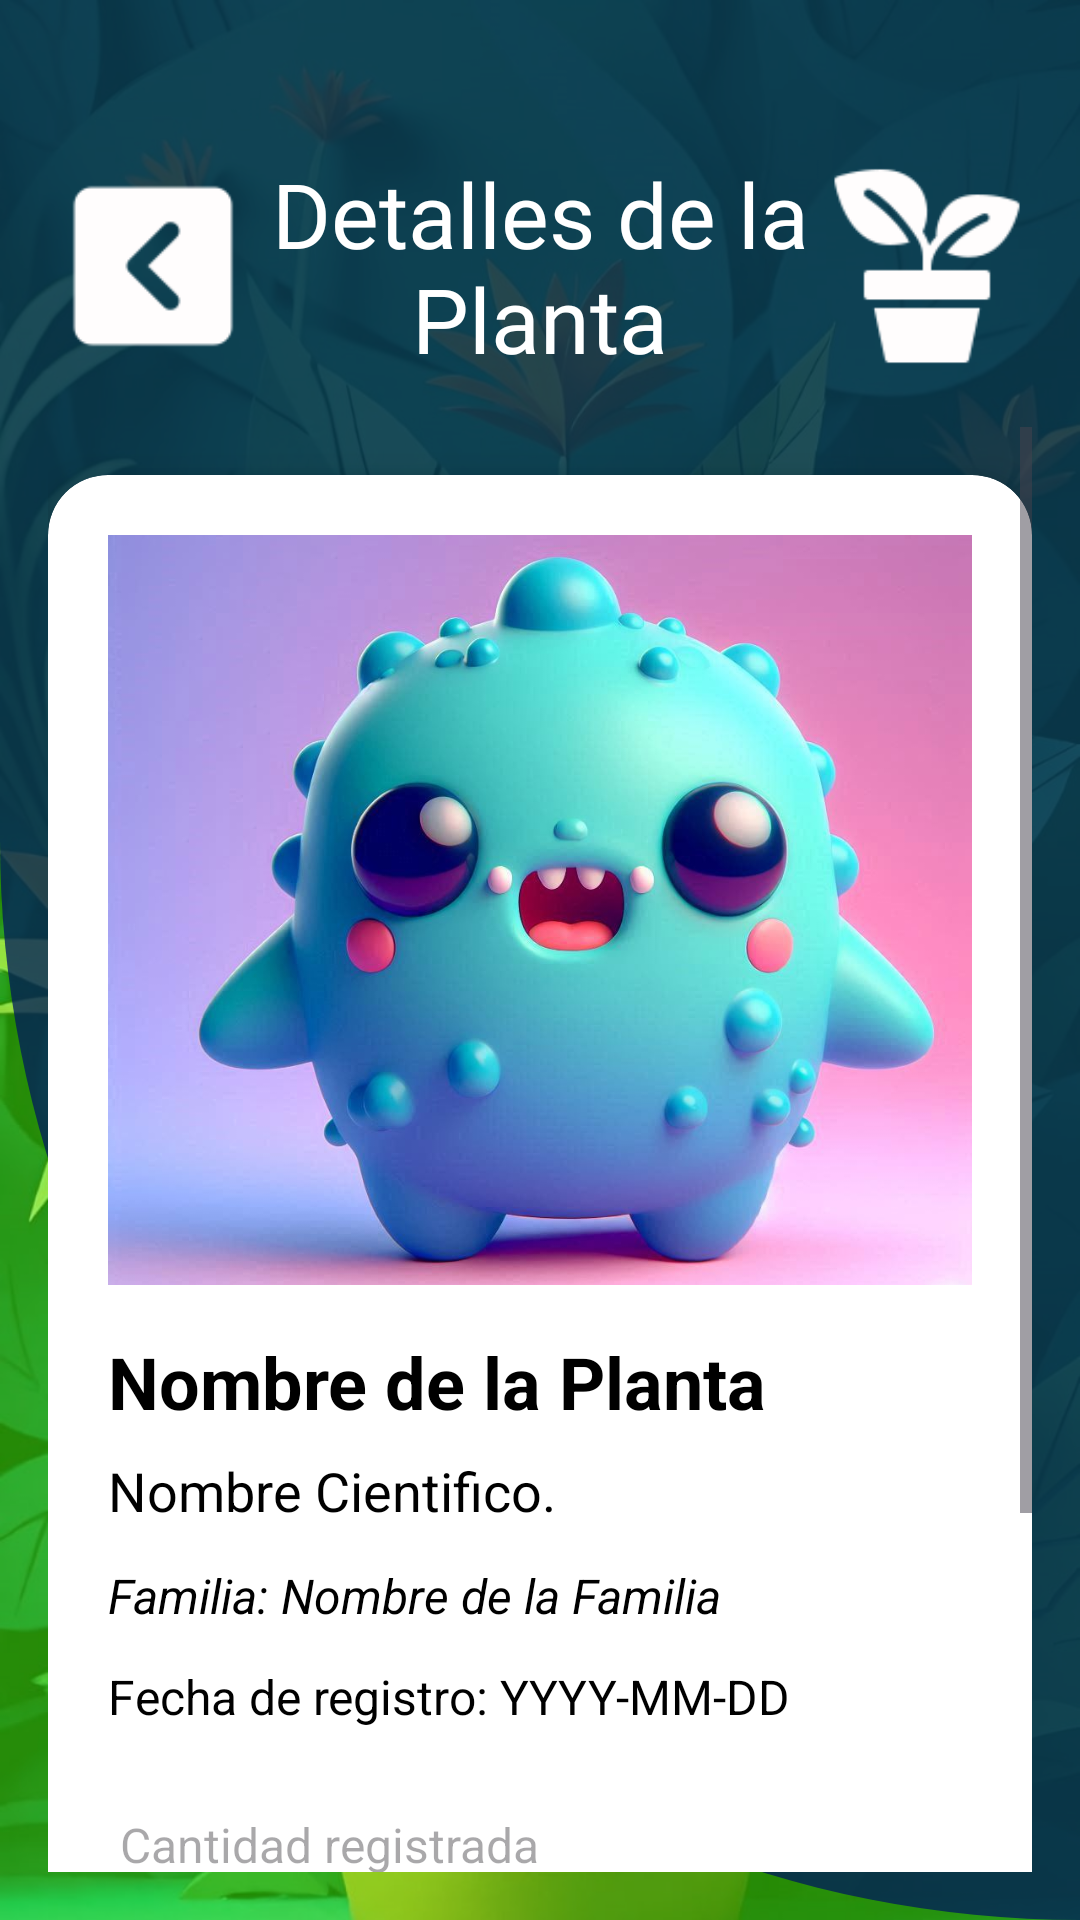

Named icons in this screenshot (1080x1920) and their bounding boxes, (x1, y1, x2, y2):
maceta: (834, 169, 1020, 363)
